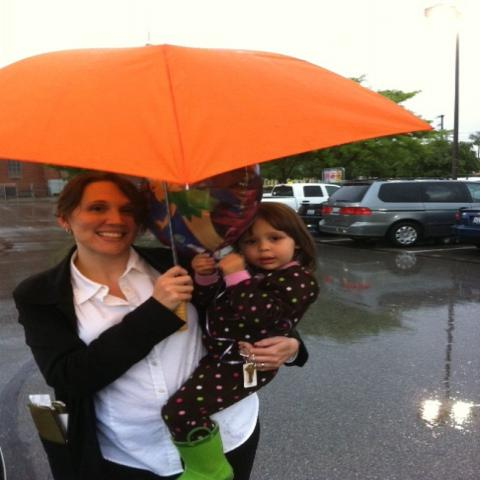car: (316, 179, 479, 249), (451, 203, 479, 235), (300, 201, 325, 227)
truck: (262, 182, 344, 212)
